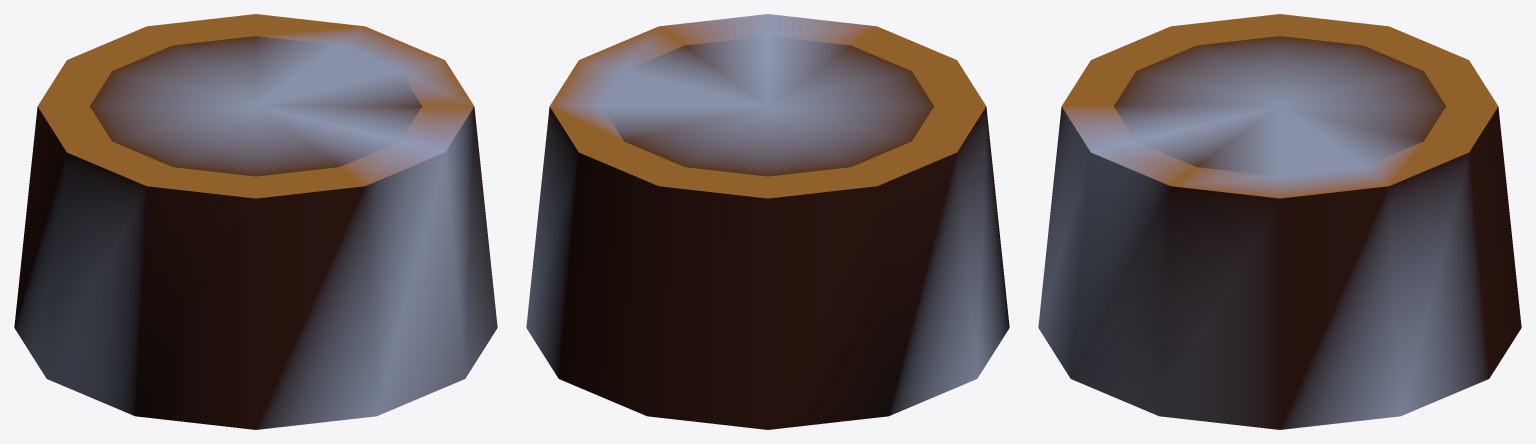
File: Stump_04.fbx
3 renders of one model, left to right at view 1: azimuth 30°, elevation 25°; view 2: azimuth 150°, elevation 25°; view 3: azimuth 270°, elevation 25°, orthographic.
Parts seen in each view (by area): view 1: Stump_04; view 2: Stump_04; view 3: Stump_04.
Boxes of the visible parts, bbox=[...] form: Stump_04: bbox=[14, 14, 497, 429]; Stump_04: bbox=[526, 14, 1009, 429]; Stump_04: bbox=[1038, 14, 1521, 429].
Bounding box in the file's own units: 562 × 284 × 562.
